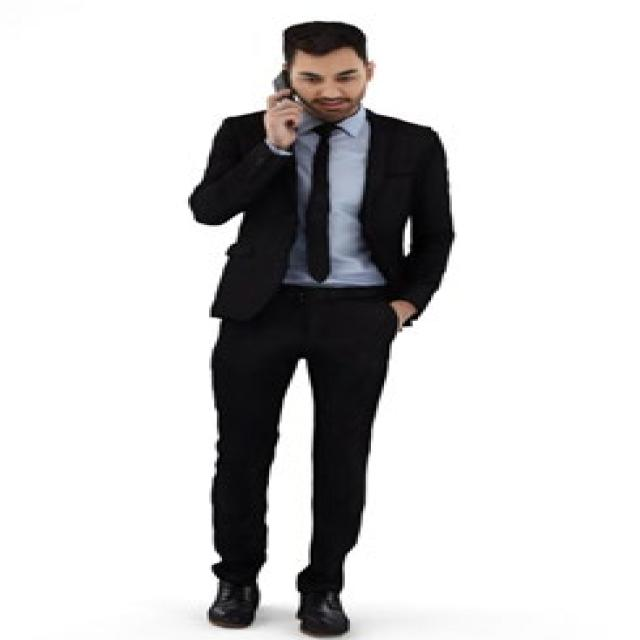standing: (182, 18, 465, 640)
